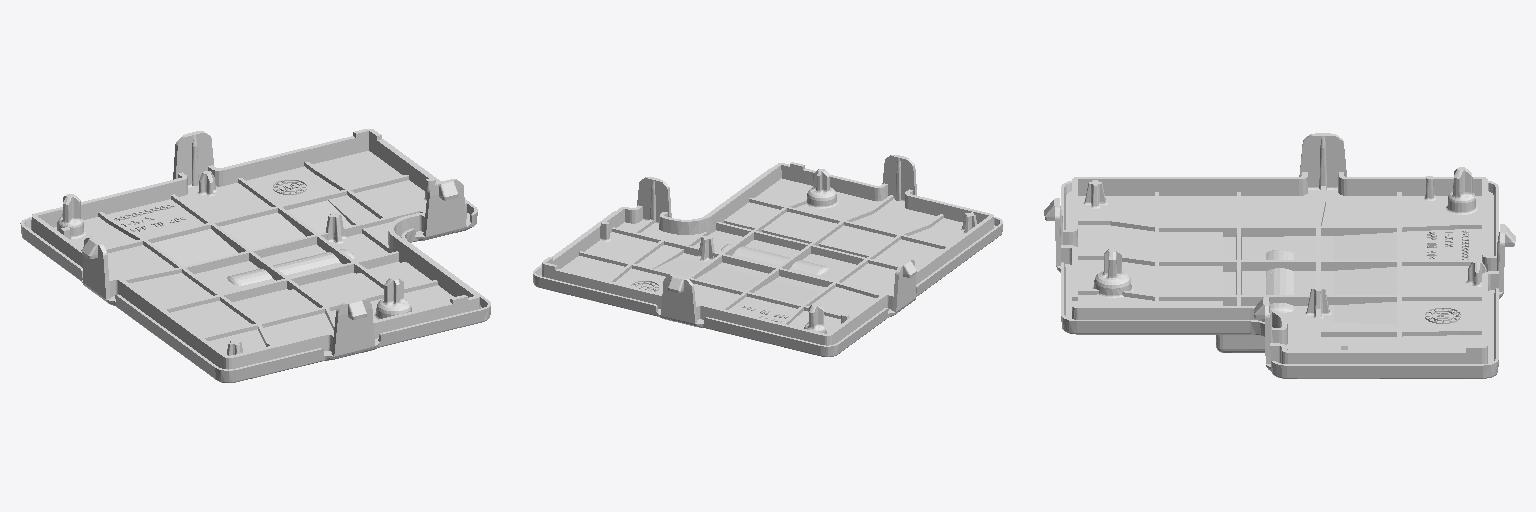
robot.urdf — bin:
<robot name="bin">


  <link name="base_link">
    <inertial>
      <origin xyz="0.0 0.0 0.3" rpy="0 0 0" />
      <mass value="1.2"/>
      <inertia ixx="0.001" ixy="0.0" ixz="0.0"
	       iyy="0.001" iyz="0.0"
	       izz="0.001" />
    </inertial>
    <visual>
      <origin xyz="0 0 0" rpy="0 0 0" />
      <geometry>
        <mesh filename="package://agimus_demos/meshes/HOUSING-01.stl" scale="0.3 0.3 0.3"/>
      </geometry>
      <material name="lightGrey">
        <color rgba="0.9 0.9 0.9 1"/>
      </material>
    </visual>
    <collision>
      <origin xyz="0 0 0" rpy="0 0 0" />
      <geometry>
        <mesh filename="package://agimus_demos/meshes/HOUSING-01.stl" scale="0.3 0.3 0.3"/>
      </geometry>
    </collision>
  </link>



  <gazebo>
    <static>true</static>
  </gazebo>
</robot>

--- What the picture shows (computed from the rendered views, not written in the file) ---
The picture shows the robot from 3 angles, left to right: view 1: azimuth 30°, elevation 25°; view 2: azimuth 150°, elevation 25°; view 3: azimuth 270°, elevation 25°; orthographic projection.
Model bin with 1 links and 0 joints (none), rooted at base_link, posed all joints at 0.
Visible links, largest first — view 1: base_link; view 2: base_link; view 3: base_link.
Link boxes in pixels (x1,y1,x2,y2): base_link: [20, 129, 490, 382]; base_link: [533, 155, 1002, 356]; base_link: [1044, 133, 1515, 378].
Size in the robot's own frame: 0.1497 by 0.1551 by 0.0299 metres.
Meshes: 1 distinct files referenced, 1 mesh visuals loaded (1 binary STL).